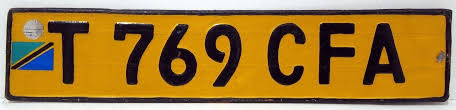T: (42, 16, 99, 89)
